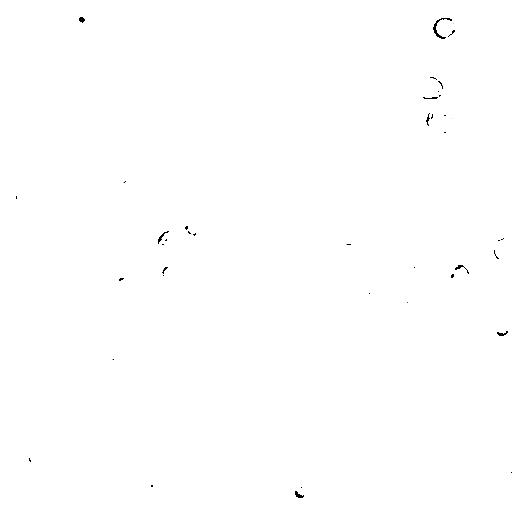micro-algae: (197, 30, 355, 193), (148, 45, 271, 173), (347, 321, 409, 386), (313, 39, 370, 97), (118, 381, 166, 431), (81, 257, 127, 303), (181, 441, 225, 485), (287, 444, 323, 480), (131, 466, 168, 501), (424, 103, 458, 137), (388, 285, 423, 317), (63, 133, 93, 163), (414, 73, 446, 101), (156, 231, 184, 262), (407, 35, 435, 64), (115, 175, 145, 201), (140, 240, 168, 267), (181, 71, 206, 97), (407, 255, 433, 279), (25, 443, 52, 466), (491, 235, 511, 265), (292, 273, 318, 296), (349, 277, 373, 301), (447, 263, 471, 287), (433, 16, 458, 39), (70, 6, 91, 32), (15, 185, 36, 209), (150, 367, 171, 391), (117, 469, 136, 492), (93, 229, 117, 247), (160, 263, 181, 283), (332, 371, 353, 391), (77, 36, 99, 55), (106, 354, 128, 373), (338, 242, 361, 258), (291, 482, 310, 501), (500, 447, 511, 478), (115, 275, 134, 292), (189, 1, 211, 15), (493, 320, 510, 337), (339, 261, 359, 275), (183, 222, 199, 237), (361, 435, 375, 451), (5, 0, 21, 11)
